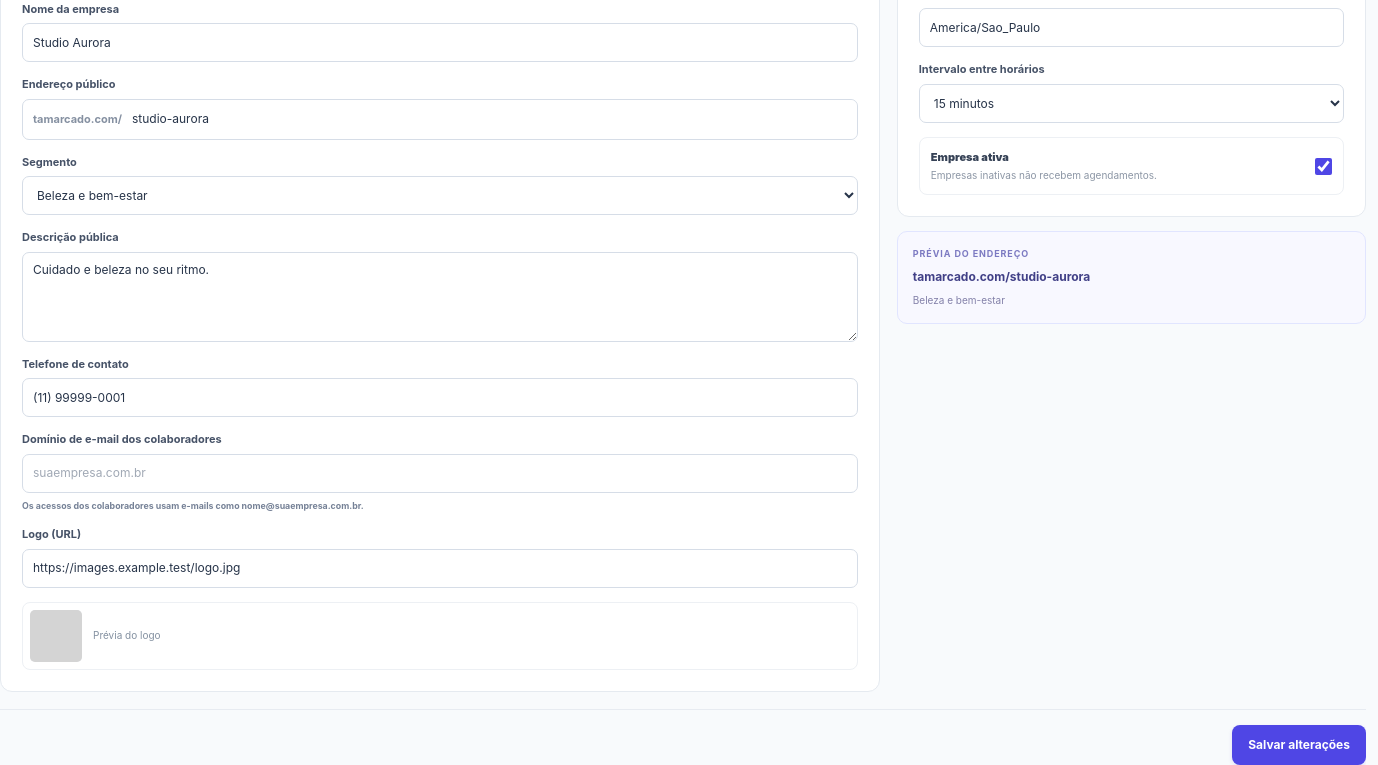
it: CompanySettingsPage › confirms successful save and surfaces errors
(page scrolled)
Click the button "Salvar alterações". click: x=1299, y=745
box: [1232, 725, 1366, 764]
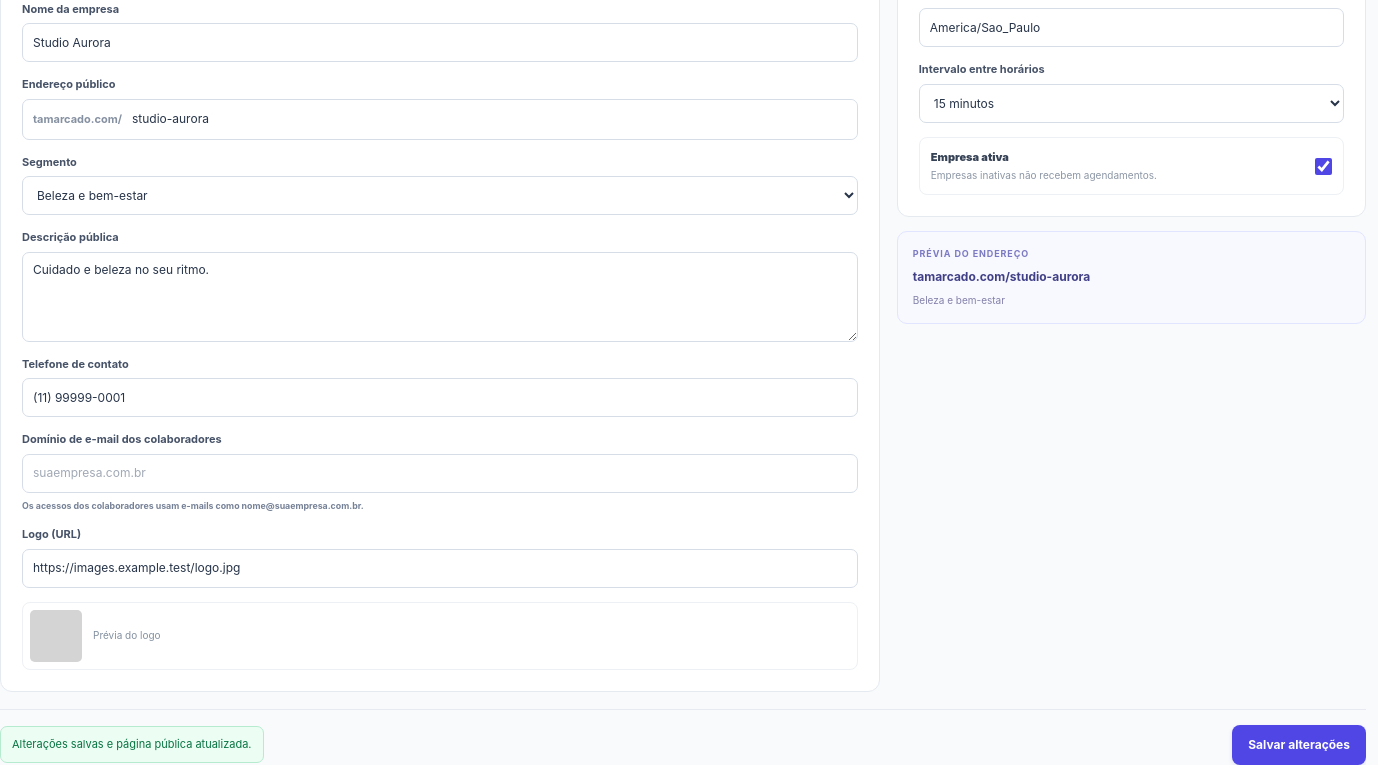
Now the message shows "Alterações salvas", box [12, 737, 252, 751]
Click the button "Salvar alterações". click: x=1299, y=745
box: [1232, 725, 1366, 764]
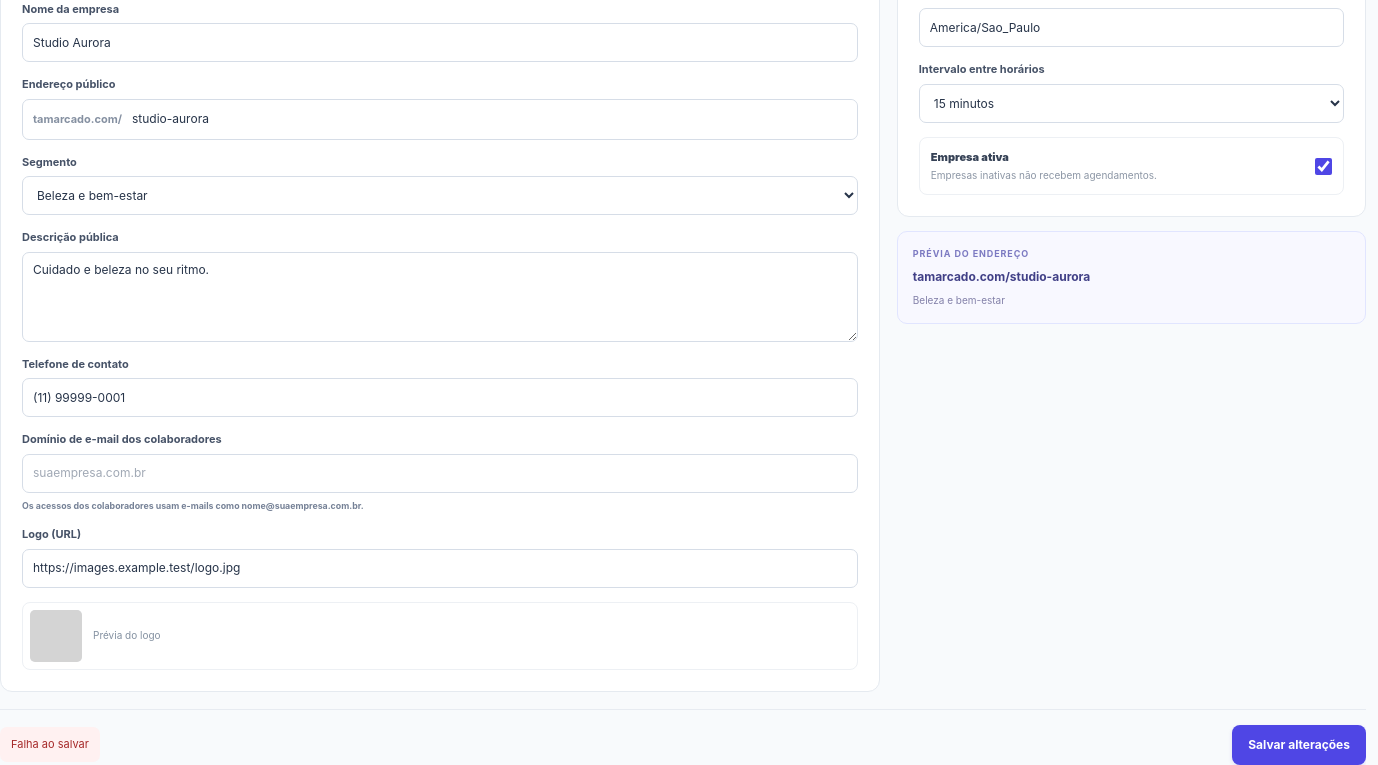
Now the message reads "Falha ao salvar", box [11, 737, 89, 751]
